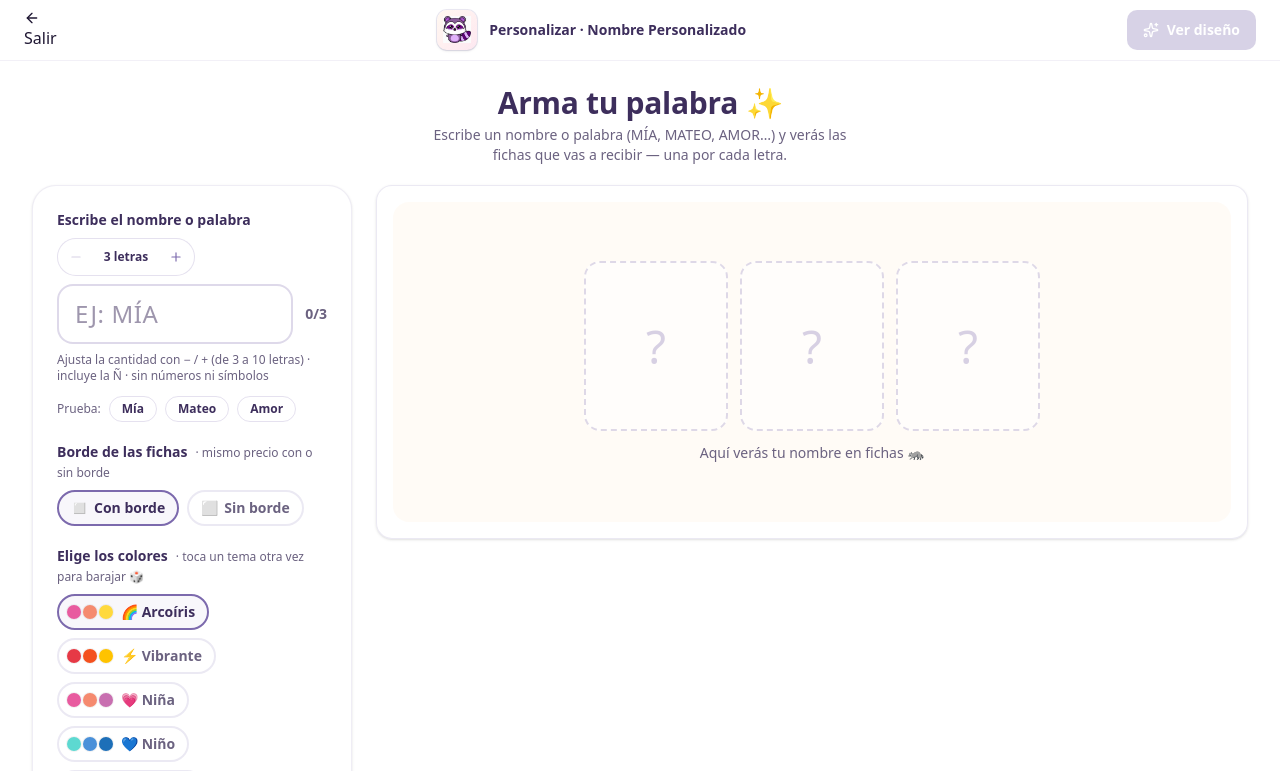
it: NameEditor — vista previa antes del carrito › "Volver a editar" cierra la previa sin dejar nada creado
The width and height of the screenshot is (1280, 771).
Type "LUCIA" into the field.
click(175, 314); type("LUCIA")  # box [57,284,293,344]
(page scrolled)
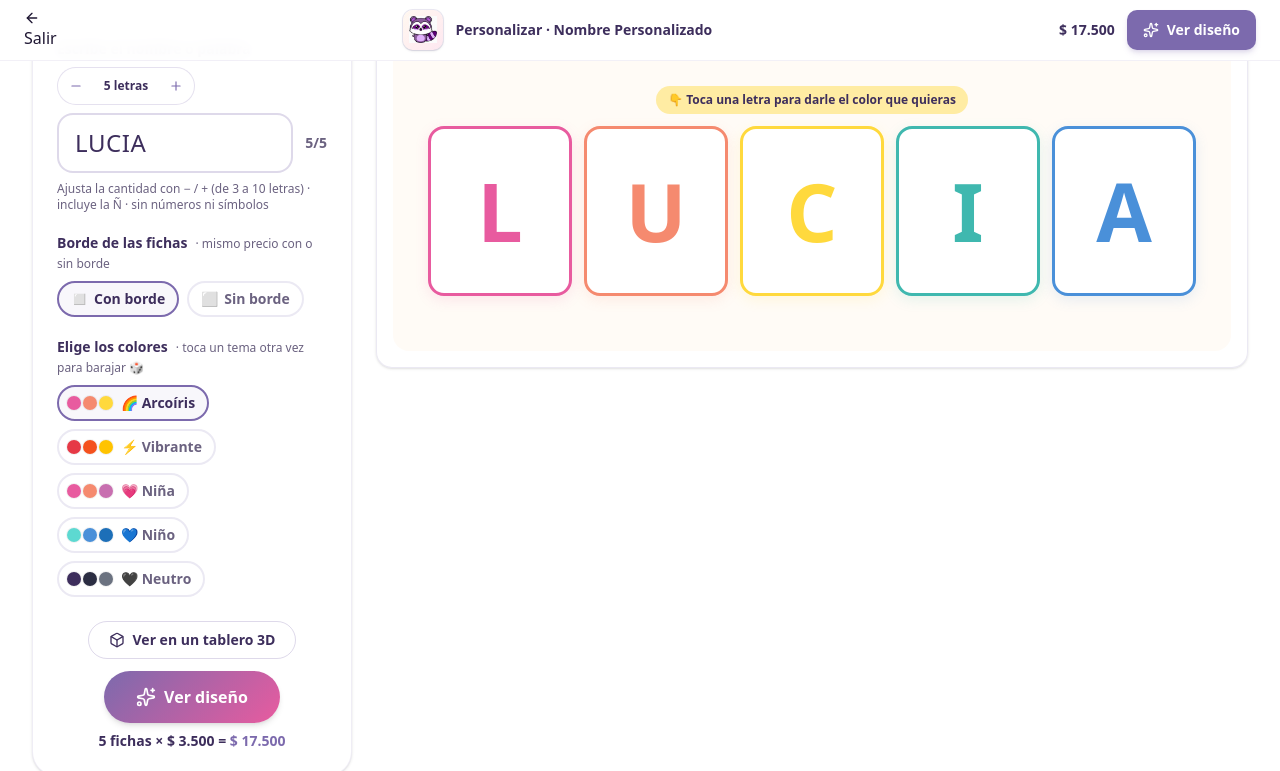
Click the button "Ver diseño" below "Elige los colores".
click(192, 697)  # box [104,671,280,723]
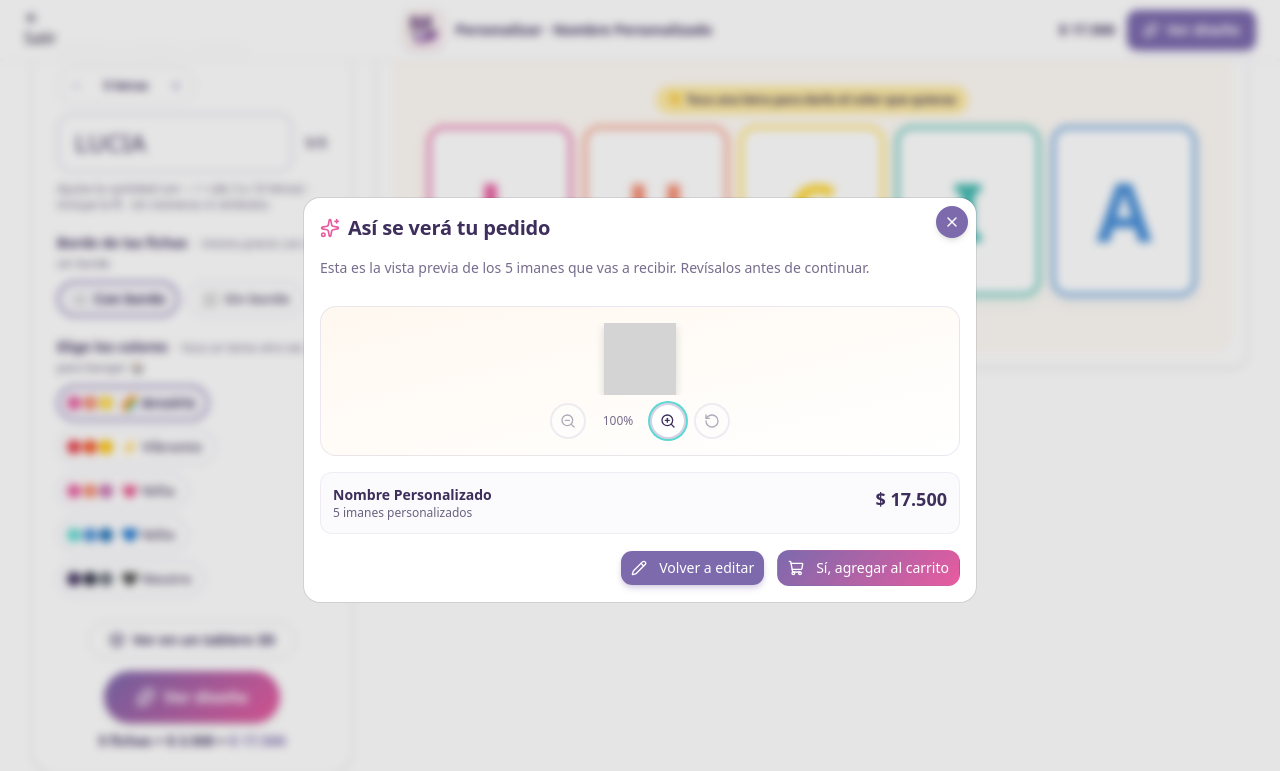
Expected: the heading "Así se verá tu pedido" is shown, [320,214,550,241]
Click the button "Volver a editar".
click(693, 568)  # box [620,550,765,586]
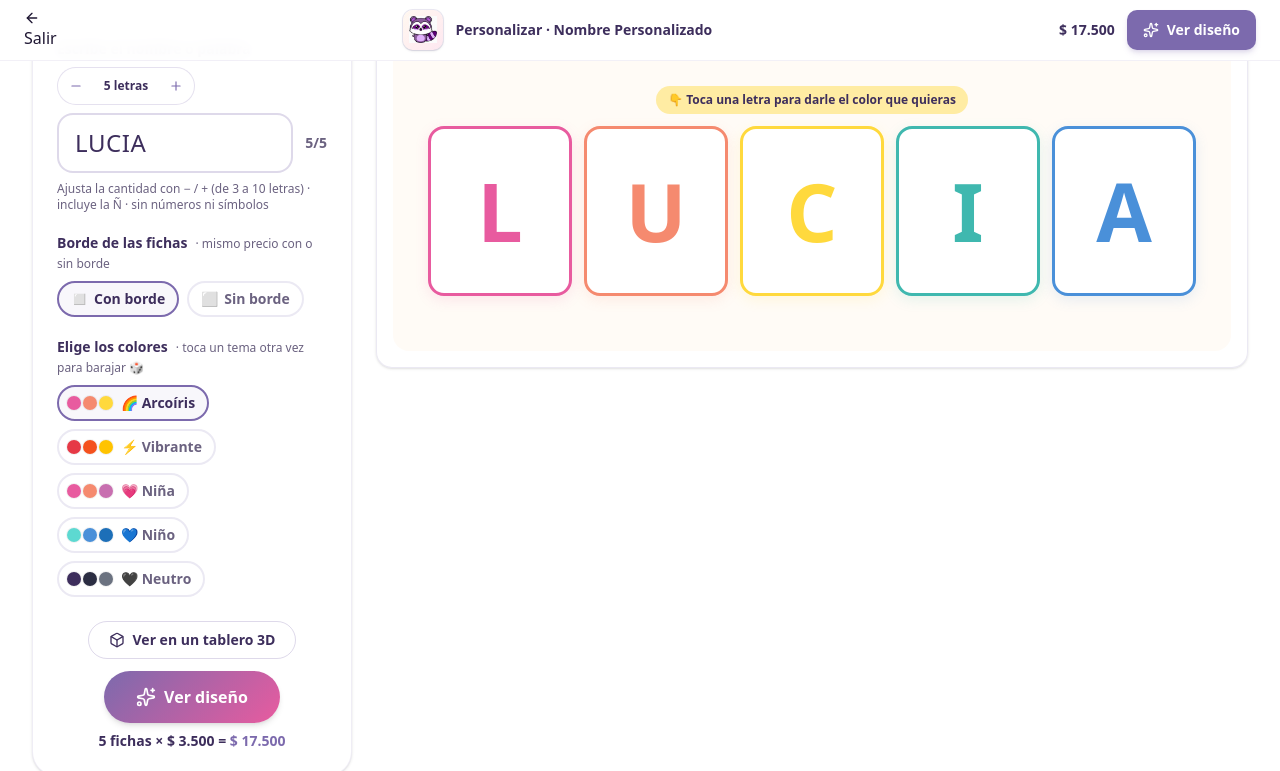
Expected: the heading "Así se verá tu pedido" is gone
